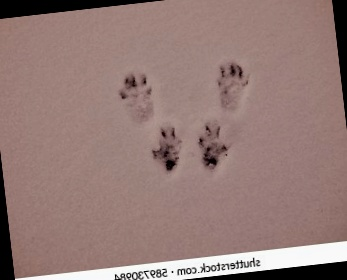ecureuil: (113, 65, 165, 133), (211, 52, 256, 120), (145, 118, 193, 181), (191, 116, 238, 180)
